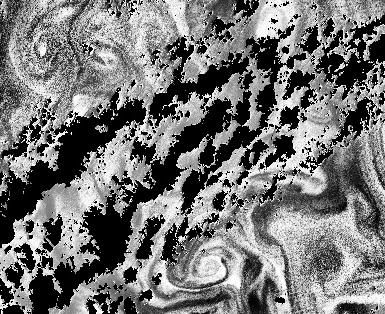CE: (15, 26, 72, 79), (190, 251, 229, 282)
